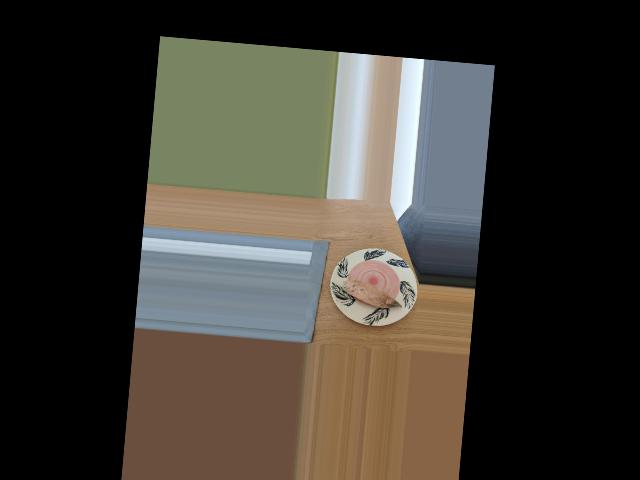sweet_potato: (342, 275, 398, 313)
